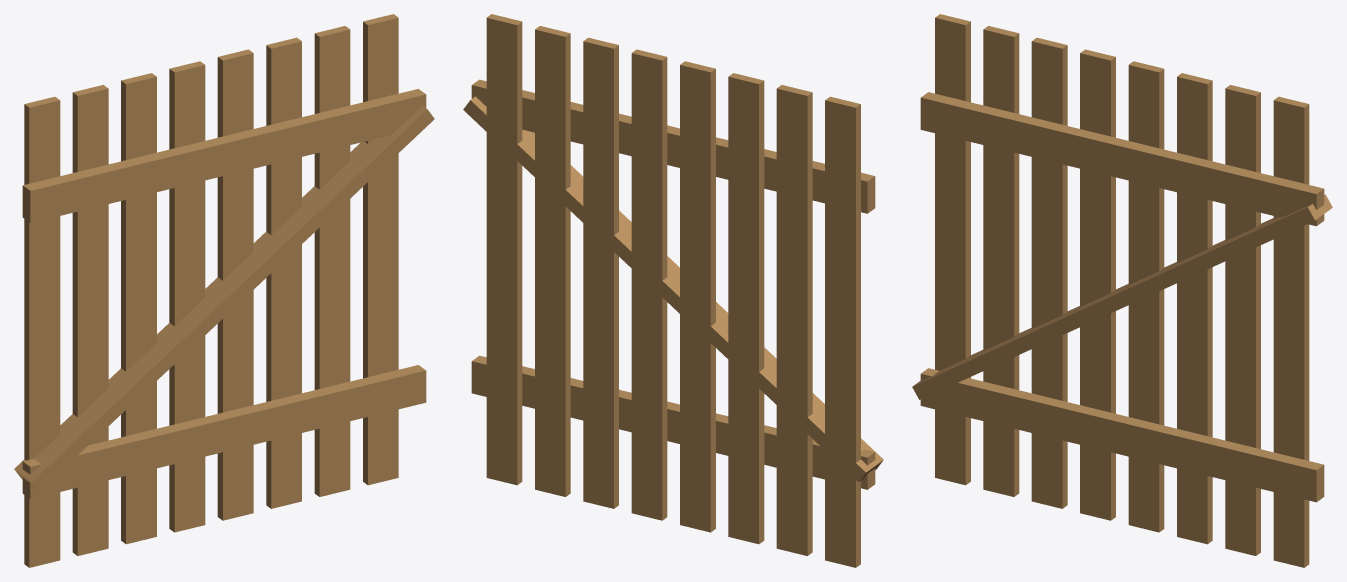
Rendered from boundary.gate.garden.glb.
The picture shows the model from 3 angles, left to right: view 1: azimuth 30°, elevation 25°; view 2: azimuth 150°, elevation 25°; view 3: azimuth 330°, elevation 25°; orthographic projection.
Visible parts, largest first — view 1: main__softwood; view 2: main__softwood; view 3: main__softwood.
Boxes of the visible parts, x1,y1,x2,y2 form: main__softwood: (14, 14, 434, 567); main__softwood: (463, 14, 883, 567); main__softwood: (912, 14, 1332, 567).
Bounding box in the file's own units: 0.9166 × 1 × 0.07.
